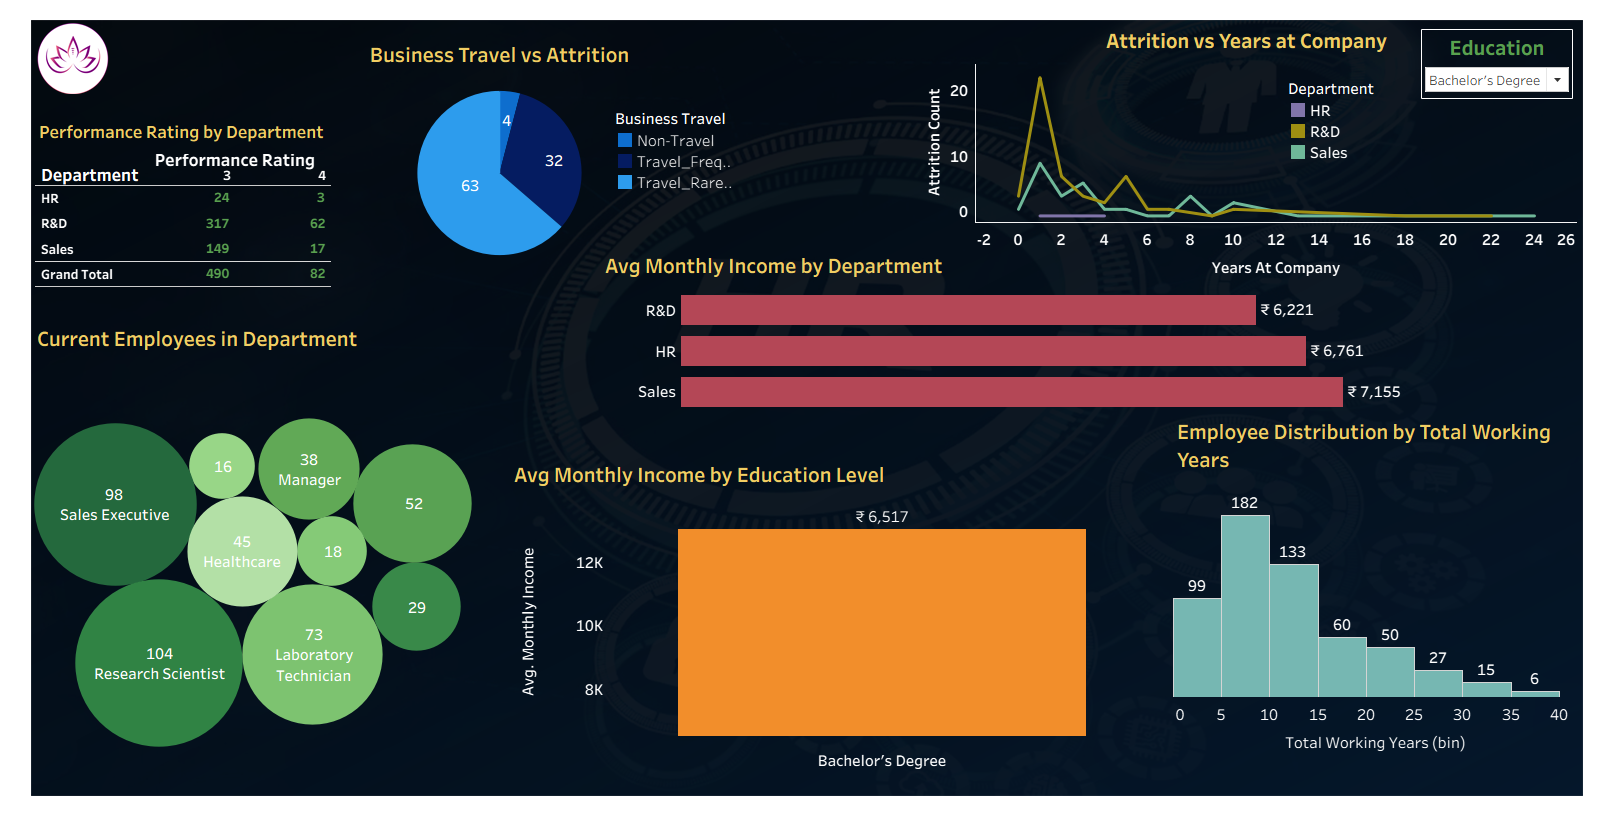

The page's visual inventory and layout, read from the dashboard file:
{"tool":"tableau","page":{"name":"Dashboard 2","canvas":[1000,1000],"units":"permille","ordinal":1},"visuals":[{"type":"image","param":"Image/bg1.png","box":[5.2,10.2,989.6,979.6]},{"type":"image","param":"Image/logo.png","box":[10.8,17.5,50,90]},{"type":"worksheet","title":"Attrition vs Years at Company","mark":"Line","rows":["Calculation_1563312085716348928"],"cols":["Years At Company"],"box":[569.3,17.8,418.4,328.7]},{"type":"filter","title":"Business Travel vs Attrition","param":"[federated.1mih5650cwixov158ot0y03tkkte].[none:Education:nk]","box":[888.6,26.2,96.2,87.5]},{"type":"worksheet","title":"Business Travel vs Attrition","mark":"Pie","box":[198.8,34.4,213.1,289.2]},{"type":"legend","title":"Attrition vs Years at Company","param":"[federated.1mih5650cwixov158ot0y03tkkte].[none:Department:nk]","box":[804.4,87.9,88.7,114.7]},{"type":"legend","title":"Business Travel vs Attrition","param":"[federated.1mih5650cwixov158ot0y03tkkte].[none:Business Travel:nk]","box":[378.2,124.8,147,131.2]},{"type":"worksheet","title":"Performance Rating by Department","mark":"Automatic","rows":["Department"],"cols":["Performance Rating"],"box":[11.4,133.8,187.3,215]},{"type":"worksheet","title":"Avg Monthly Income by Department","mark":"Automatic","rows":["Department"],"cols":["Monthly Income"],"box":[369.8,299.4,529.8,206.4]},{"type":"worksheet","title":"Current Employees in Department","mark":"Circle","box":[10.1,390,386.1,602.5]},{"type":"worksheet","title":"Employee Distribution by Total Working Years","mark":"Bar","rows":["Employee Count"],"cols":["Total Working Years (bin)"],"box":[731.6,506.2,256.3,433.8]},{"type":"worksheet","title":"Monthly Income by Education Level","mark":"GanttBar","rows":["Monthly Income"],"cols":["Education"],"box":[331,560.5,388.6,394.9]}]}

Visuals, with their boxes on the dashboard's canvas, which has no fixed pixel size, in thousandths of its width and height (x1, y1, x2, y2). These are canvas units, not pixel positions in the 1602x815 screenshot, which may show the page scaled, cropped or inside an application window:
image: left=5, top=10, right=995, bottom=990
image: left=11, top=18, right=61, bottom=108
"Attrition vs Years at Company" worksheet (Line marks): left=569, top=18, right=988, bottom=346
"Business Travel vs Attrition" filter: left=889, top=26, right=985, bottom=114
"Business Travel vs Attrition" worksheet (Pie marks): left=199, top=34, right=412, bottom=324
"Attrition vs Years at Company" legend: left=804, top=88, right=893, bottom=203
"Business Travel vs Attrition" legend: left=378, top=125, right=525, bottom=256
"Performance Rating by Department" worksheet: left=11, top=134, right=199, bottom=349
"Avg Monthly Income by Department" worksheet: left=370, top=299, right=900, bottom=506
"Current Employees in Department" worksheet (Circle marks): left=10, top=390, right=396, bottom=992
"Employee Distribution by Total Working Years" worksheet (Bar marks): left=732, top=506, right=988, bottom=940
"Monthly Income by Education Level" worksheet (GanttBar marks): left=331, top=560, right=720, bottom=955
